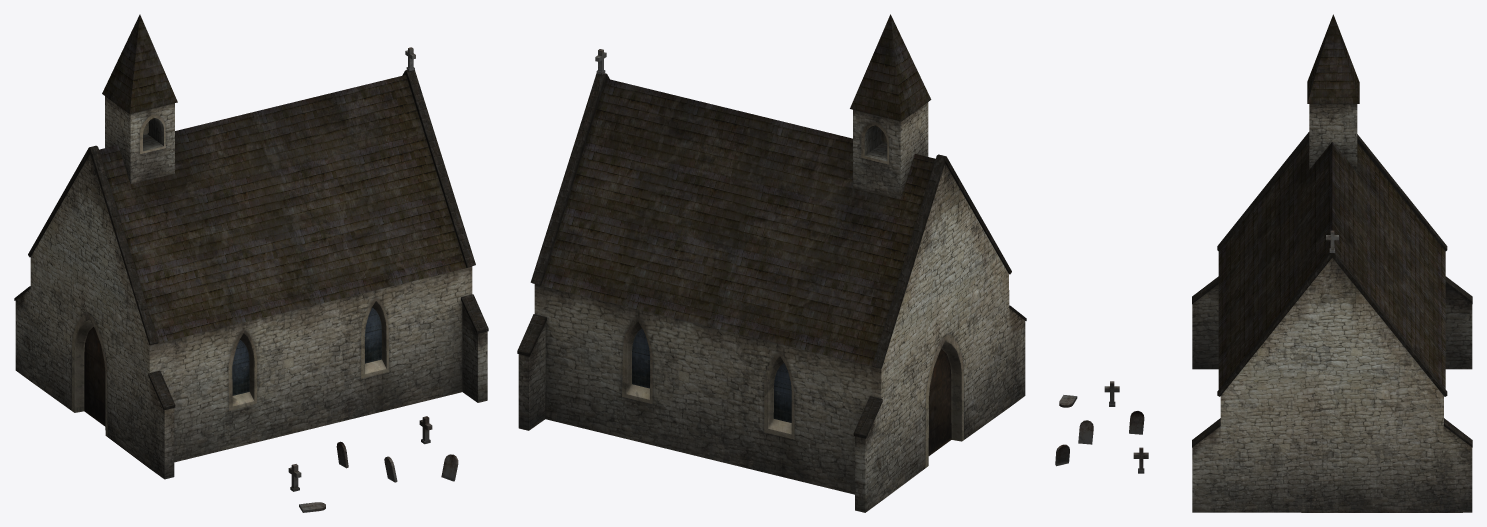
Rendered from chapel.obj.
The picture shows the model from 3 angles, left to right: view 1: azimuth 30°, elevation 25°; view 2: azimuth 150°, elevation 25°; view 3: azimuth 270°, elevation 25°; orthographic projection. The views are drawn at different scales.
Visible parts, largest first — view 1: chapel; view 2: chapel; view 3: chapel.
Part boxes in pixels (x1,y1,x2,y2): chapel: (14,14,488,512); chapel: (517,14,1026,512); chapel: (1055,14,1472,512).
Bounding box in the file's own units: 105 × 123 × 124.
